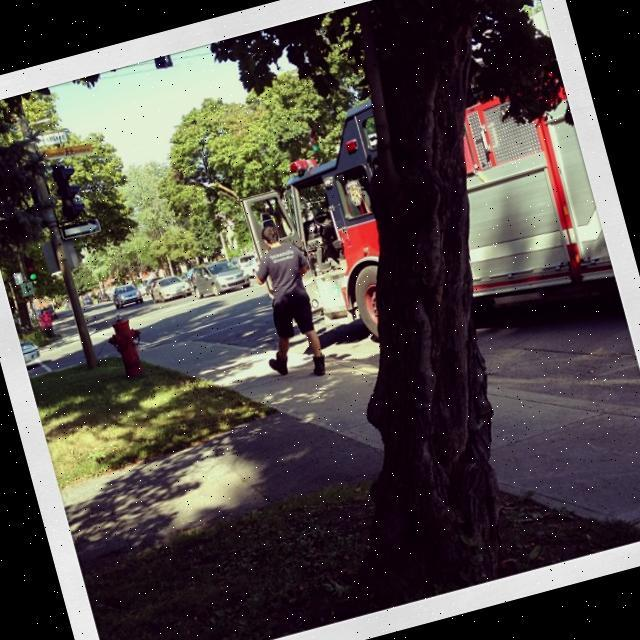fire_hydrant: (100, 308, 152, 382)
